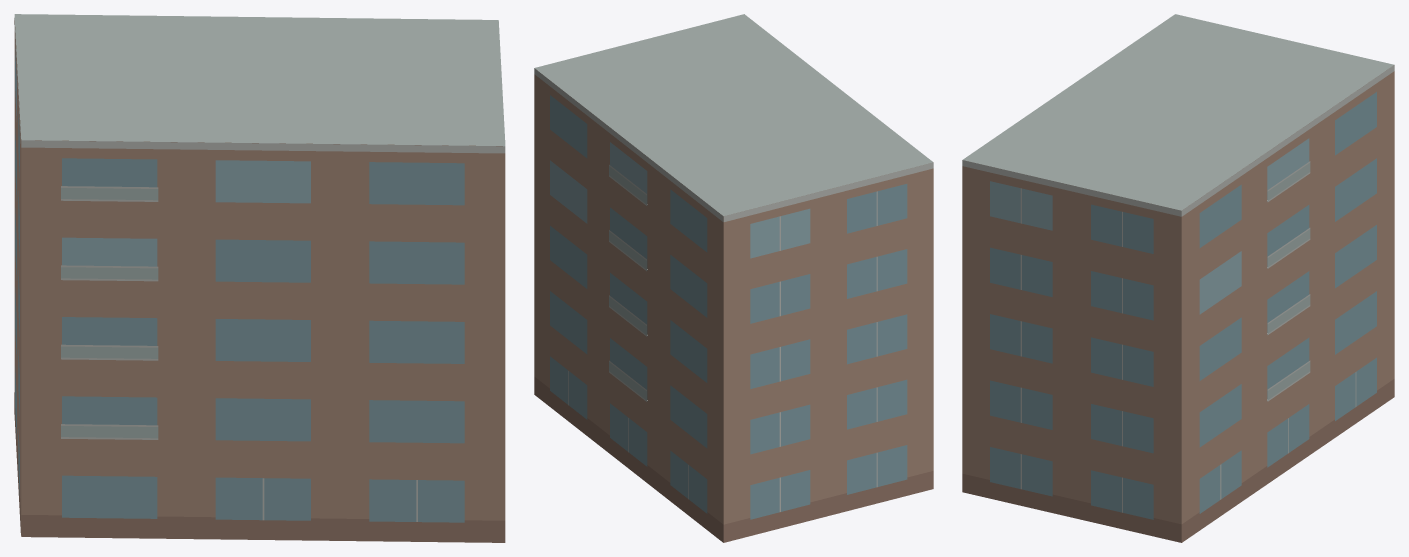
File: survey-upis-32870639.glb
3 views of the same model, side by side, from view 1: azimuth 30°, elevation 25°; view 2: azimuth 150°, elevation 25°; view 3: azimuth 270°, elevation 25° (orthographic). The views are drawn at different scales.
Parts seen in each view (by area): view 1: survey-upis-32870639.tmp; view 2: survey-upis-32870639.tmp; view 3: survey-upis-32870639.tmp.
Part boxes in pixels (box(x1,y1,x2,y2)): survey-upis-32870639.tmp: box(14, 14, 505, 542); survey-upis-32870639.tmp: box(534, 14, 933, 542); survey-upis-32870639.tmp: box(962, 14, 1394, 542).
Size of the model in its own units: 16.77 by 13.2 by 15.58.
